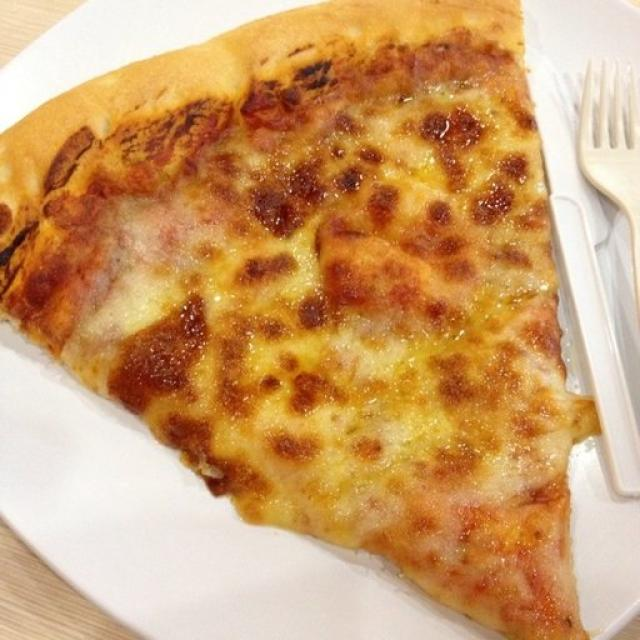Pizza: (0, 0, 591, 640)
